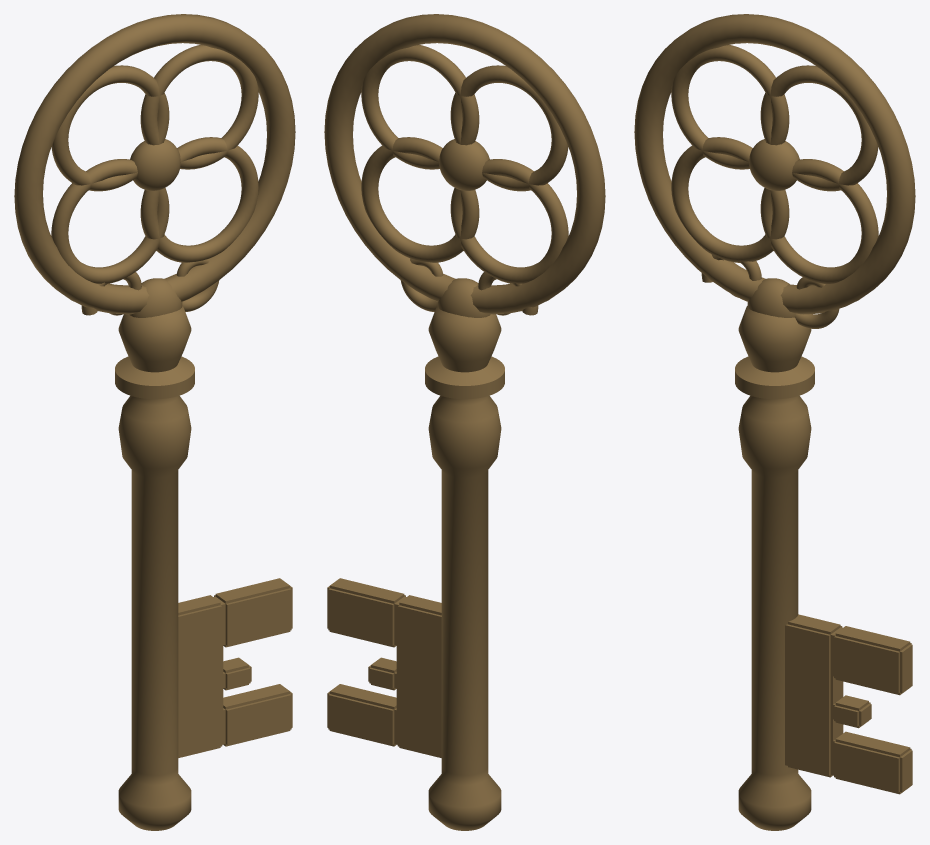
Rendered from schluessel_b.fbx.
3 renders of one model, left to right at view 1: azimuth 30°, elevation 25°; view 2: azimuth 150°, elevation 25°; view 3: azimuth 330°, elevation 25°, orthographic.
Visible parts, largest first — view 1: Schluessel_B; view 2: Schluessel_B; view 3: Schluessel_B.
Boxes of the visible parts, x1=… form: Schluessel_B: x1=14, y1=14, x2=295, y2=830; Schluessel_B: x1=324, y1=14, x2=605, y2=830; Schluessel_B: x1=634, y1=14, x2=915, y2=830.
Bounding box in the file's own units: 4.38 × 12.19 × 1.1.
